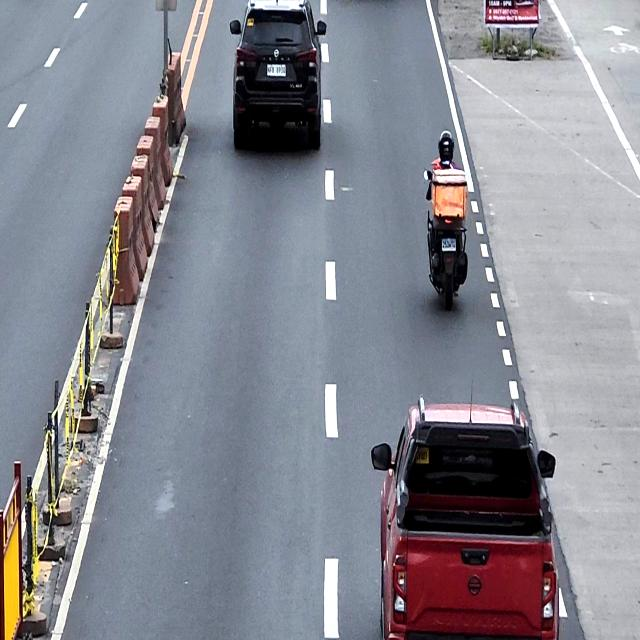Car: (371, 395, 560, 639), (229, 0, 326, 149)
License-Plate: (266, 62, 286, 78), (441, 237, 457, 254)
Motorcycle: (423, 167, 468, 310)
